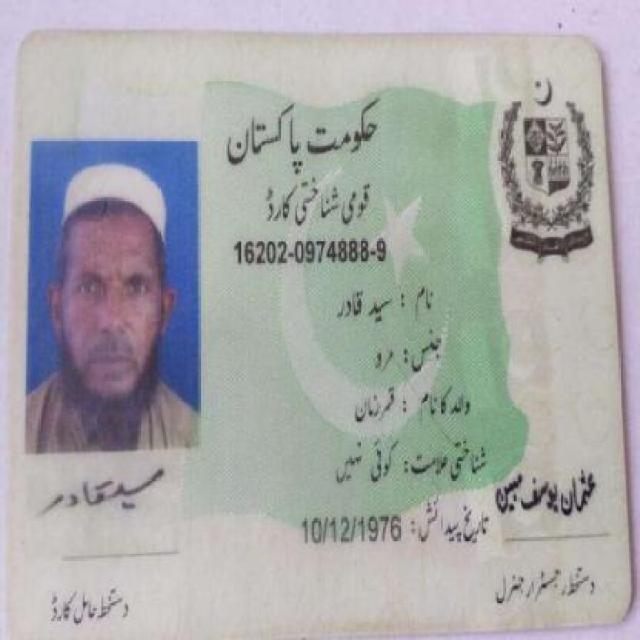Front: (10, 17, 632, 637)
